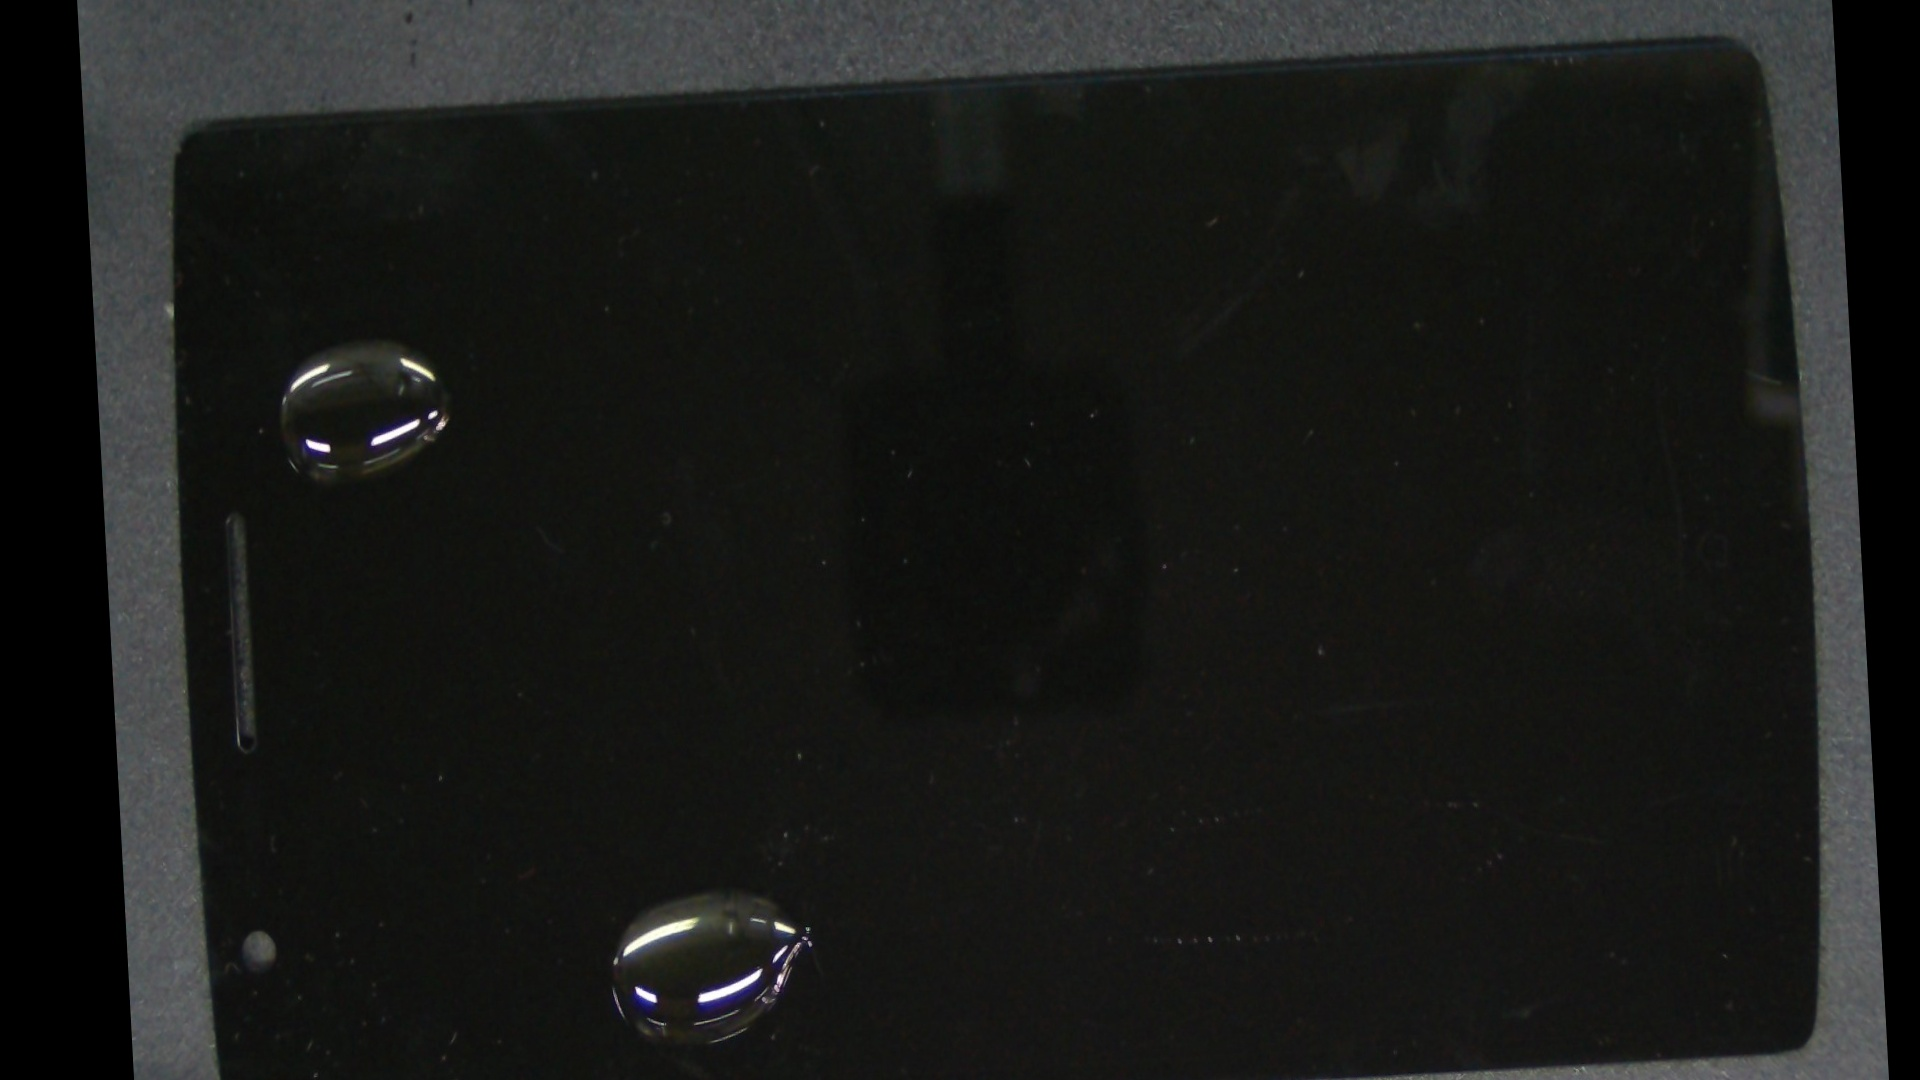oil: (390, 409, 1009, 1080), (223, 149, 516, 533)
